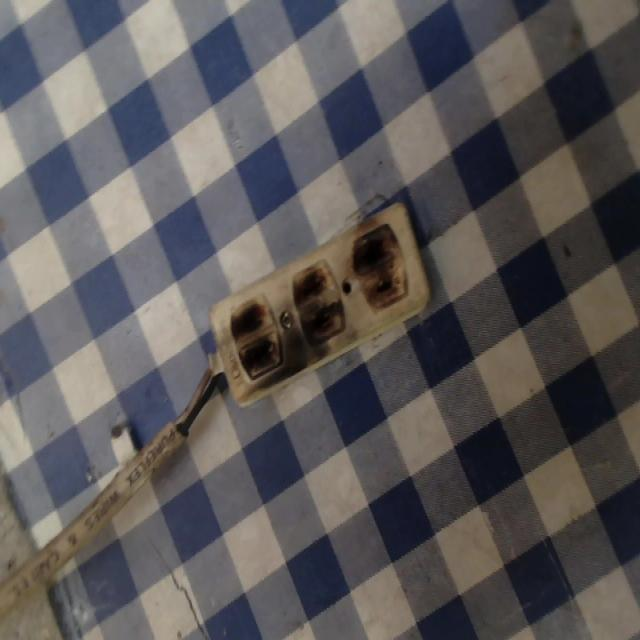-: (351, 224, 408, 309), (228, 295, 284, 380), (290, 260, 346, 341)
